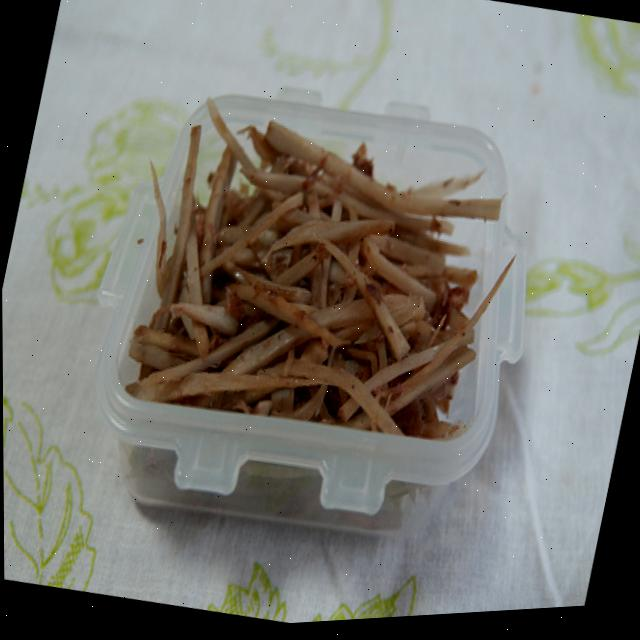蔬菜料理: (83, 53, 577, 498)
